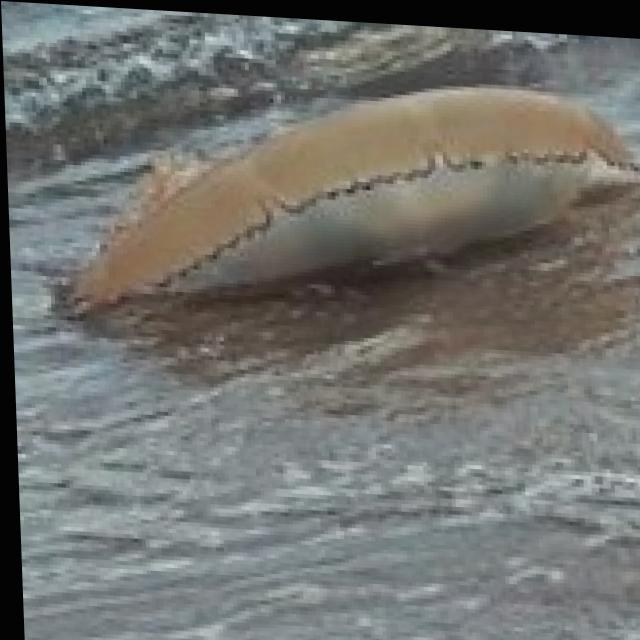Box-jellyfish: (40, 48, 640, 346)
